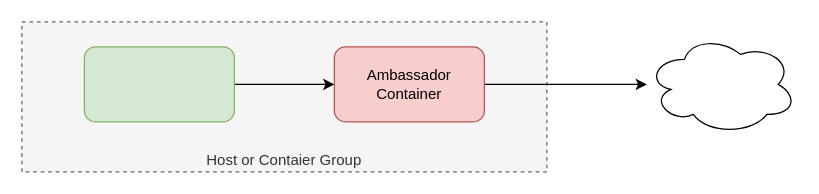
Image size: 819x194. Some labels were removed from this diagram. Here are the shapes that lost their labels. From the top down, the box of each, then its label:
(83, 46, 234, 122): Application Container
(646, 33, 797, 134): rest of the world
